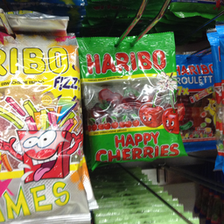candy: (1, 30, 92, 220), (78, 34, 189, 166)
